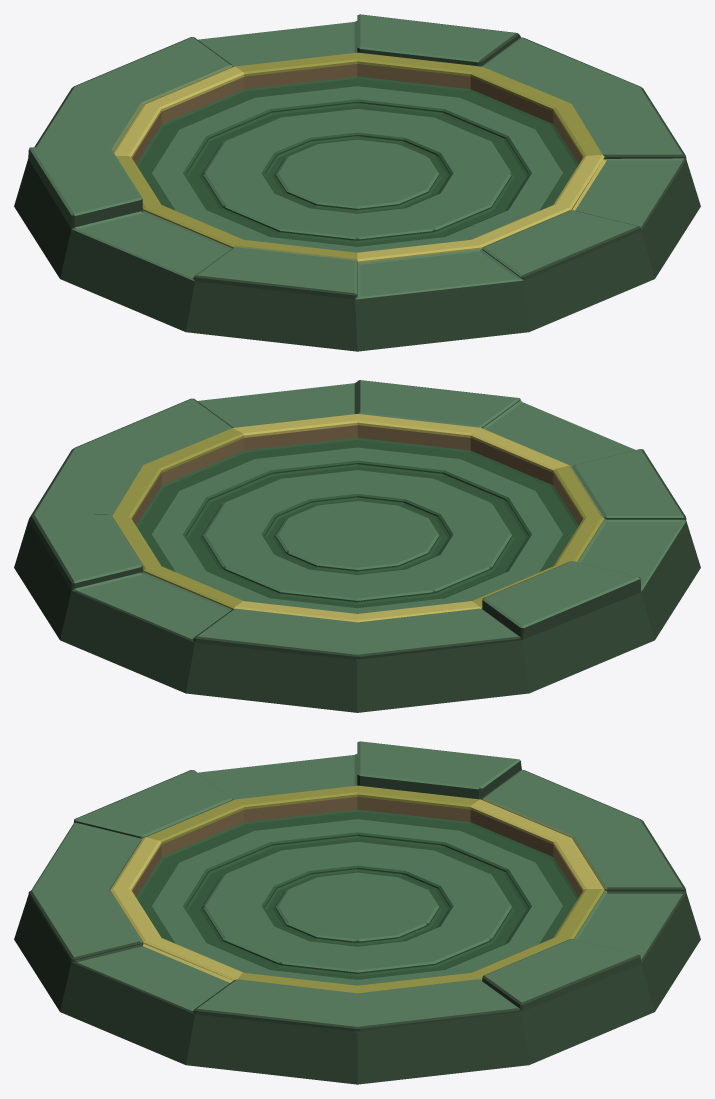
Rendered from portal sem base.fbx.
The picture shows the model from 3 angles, top to bottom: view 1: azimuth 30°, elevation 25°; view 2: azimuth 150°, elevation 25°; view 3: azimuth 270°, elevation 25°; orthographic projection.
Visible parts, largest first — view 1: Portal desligado sem base; view 2: Portal desligado sem base; view 3: Portal desligado sem base.
Boxes of the visible parts, <box> form: Portal desligado sem base: <box>14,14,700,351</box>; Portal desligado sem base: <box>14,380,700,712</box>; Portal desligado sem base: <box>14,741,700,1084</box>.
Bounding box in the file's own units: 2.96 × 0.2873 × 2.96.
